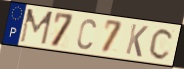7: (50, 11, 76, 49), (101, 18, 125, 55)
C: (147, 27, 175, 62), (76, 17, 98, 51)
K: (124, 23, 150, 59)
M: (18, 8, 55, 47)
